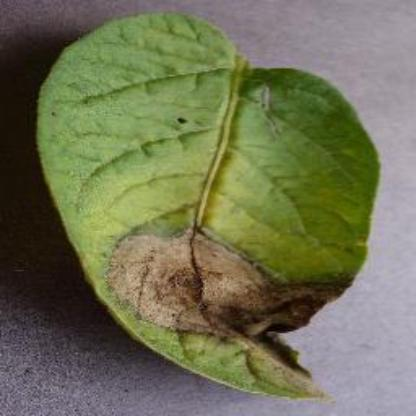Late-Blight: (31, 6, 395, 410)
